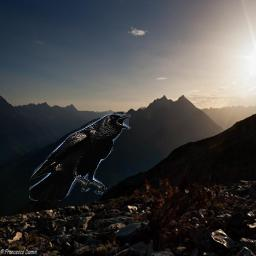Crow: (29, 113, 131, 201)
